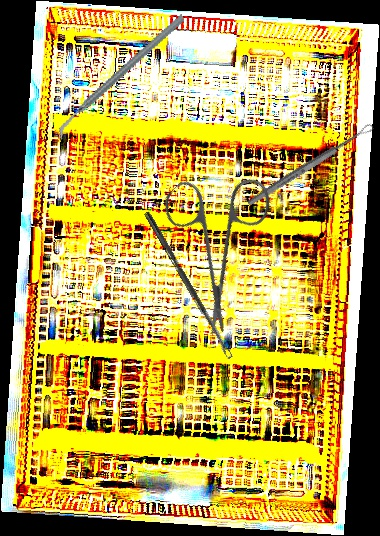Chopper: (35, 13, 208, 141)
Iris Scissors: (119, 141, 317, 340)
Surgical Spoon: (142, 211, 234, 360), (246, 122, 375, 208)
